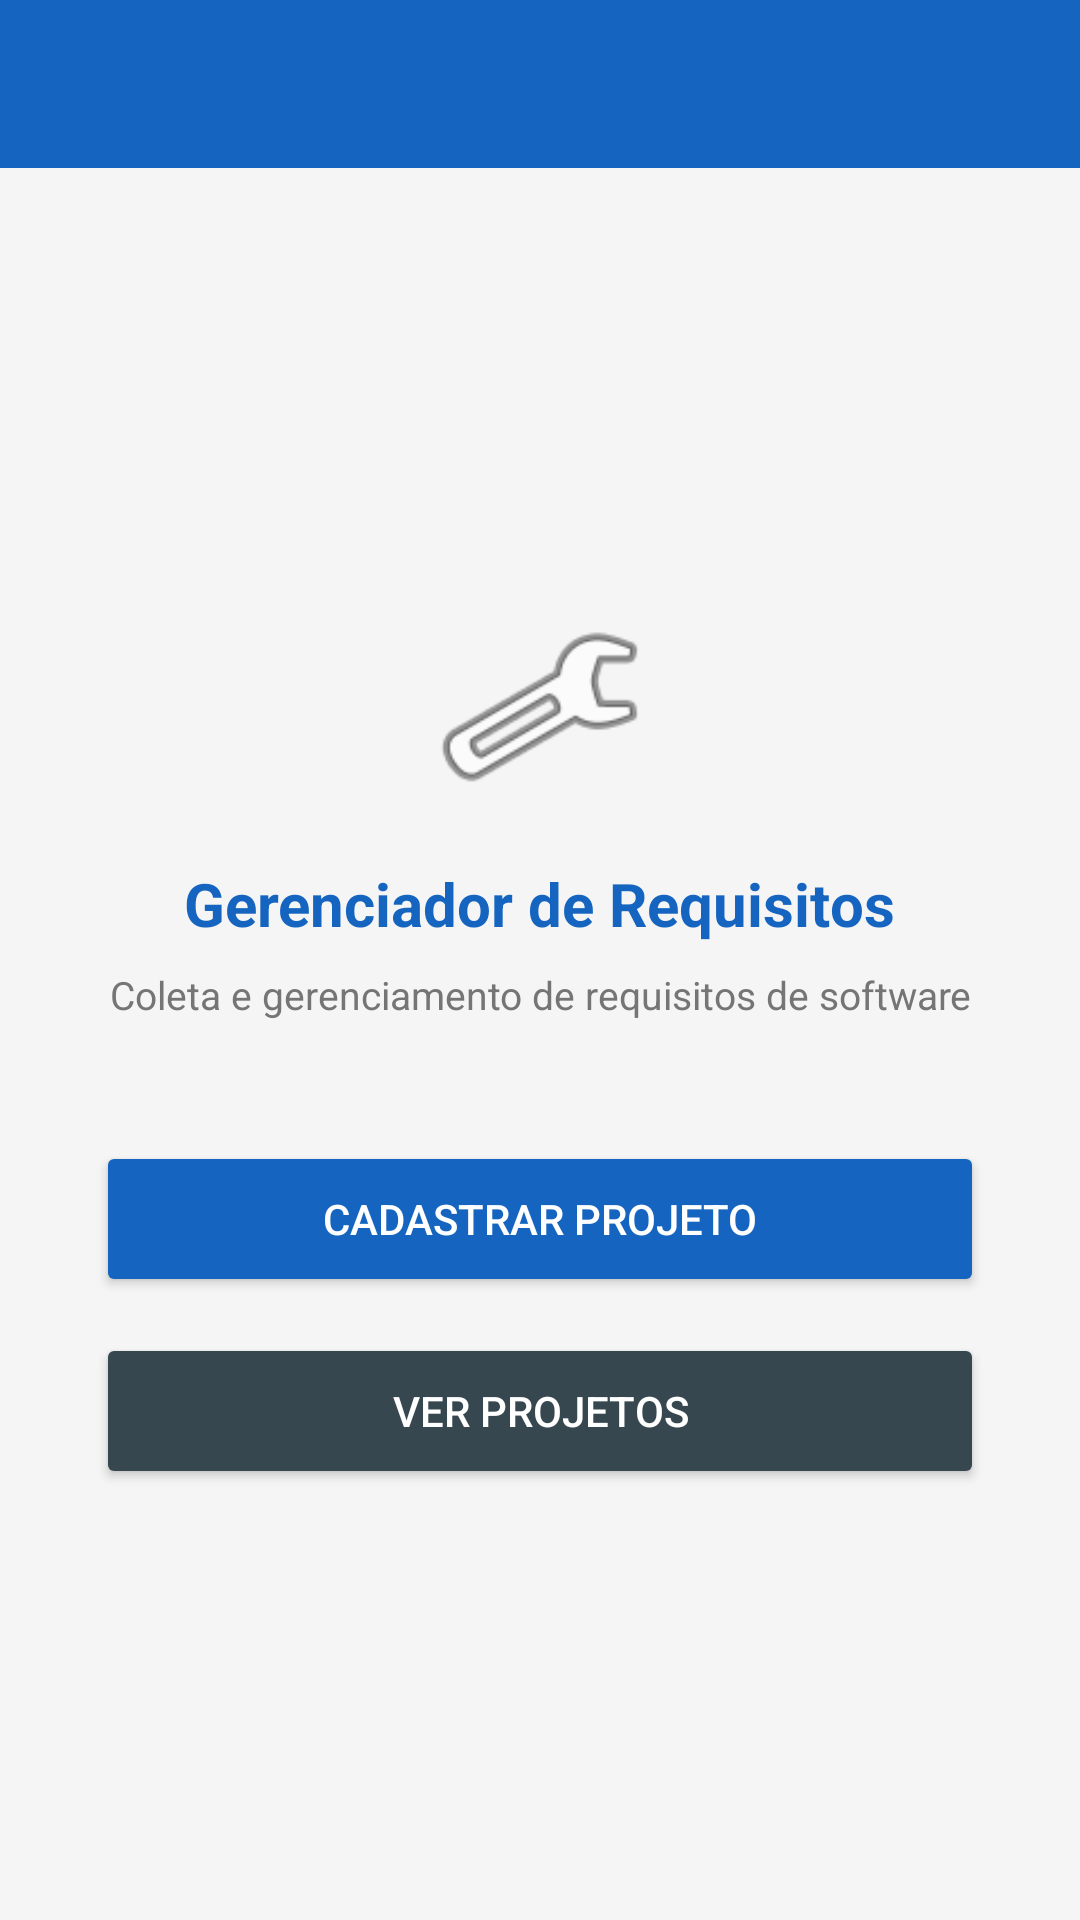

Screen size 1080×1920. Icon name, then its center in pixels as (x=x, y=y):
manage: (x=539, y=707)
